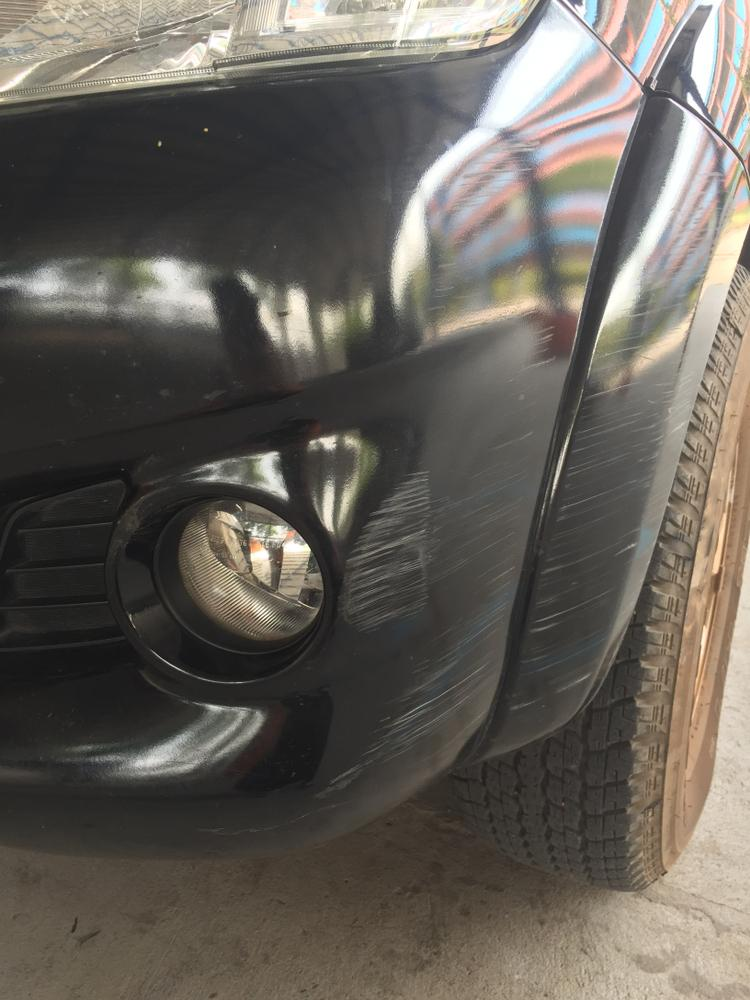scratch: (213, 320, 560, 840), (510, 169, 732, 710), (419, 134, 545, 308)
